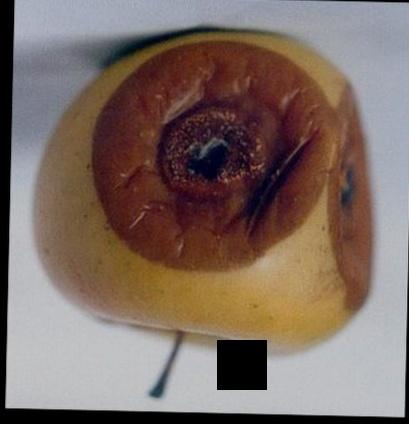rotten apple: (26, 29, 387, 355)
